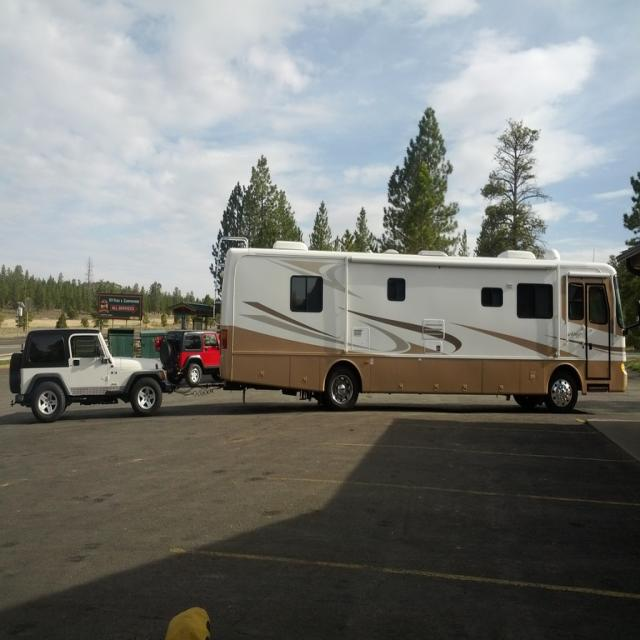Buses: (217, 237, 632, 415)
Sport-Utility-Vehicle: (11, 327, 170, 418)
